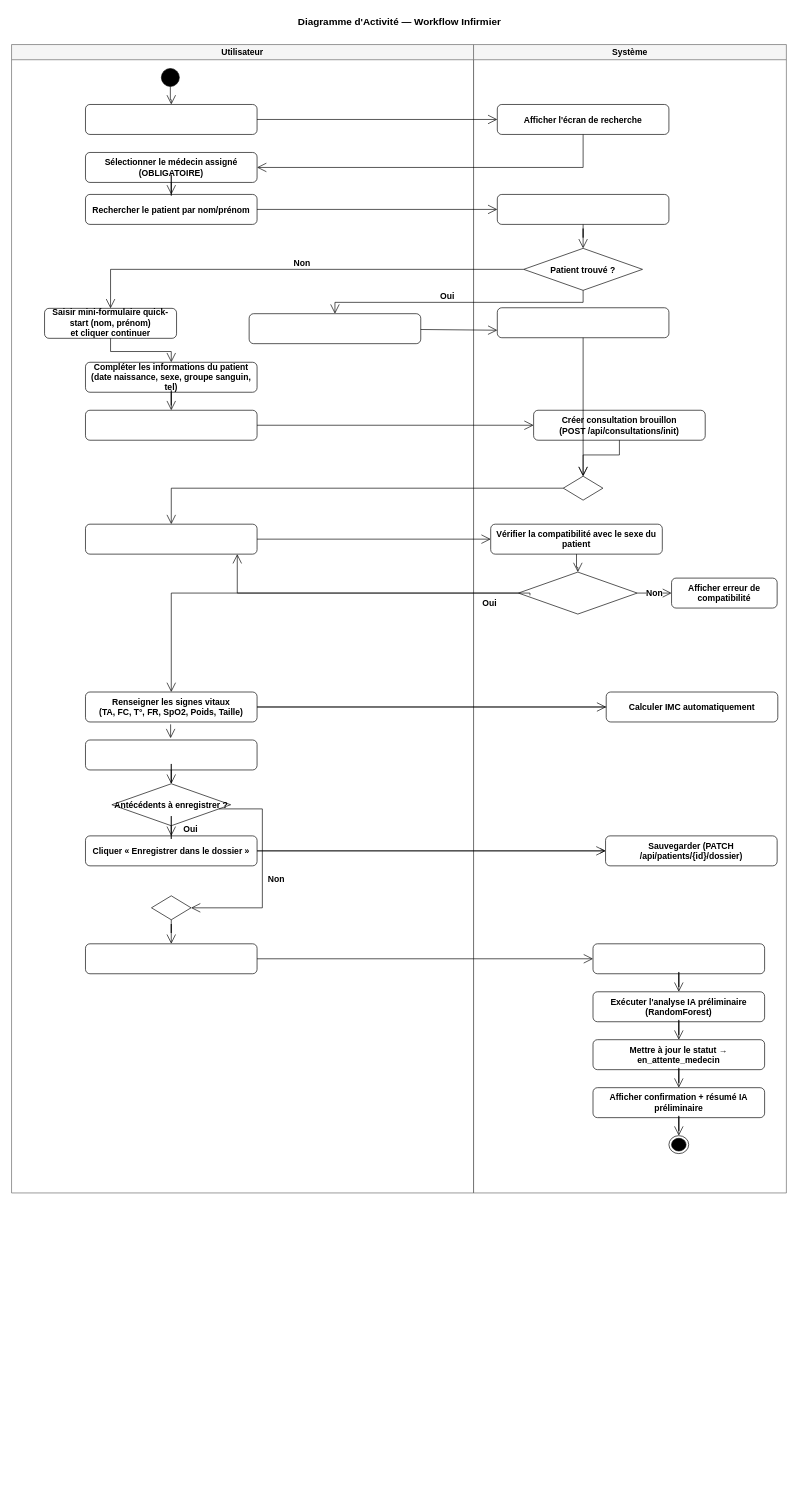
Image size: 799x1494. Some labels were removed from this diagram. Each missing label, with the centre of its shape:
"Accéder à l'interface infirmier" goes at point 171,119.
"Ajouter un symptôme (nom, sévérité, durée)" goes at point 171,539.
"Cliquer « Envoyer au médecin »" goes at point 171,958.
"Cliquer « Sélectionner »" goes at point 334,328.
"Initialiser la consultation (POST /api/consultations/init)" goes at point 583,322.
"Rechercher dans la base de données (debounce 500ms)" goes at point 583,209.
"Renseigner l'anamnèse (antécédents personnels, familiaux, allergies)" goes at point 171,754.
"Saisir le motif de consultation et cliquer « Suivant »" goes at point 171,425.
"Soumettre la consultation (POST /api/consultations/workflow-partiel)" goes at point 678,958.
"Symptôme compatible ?" goes at point 577,592.
